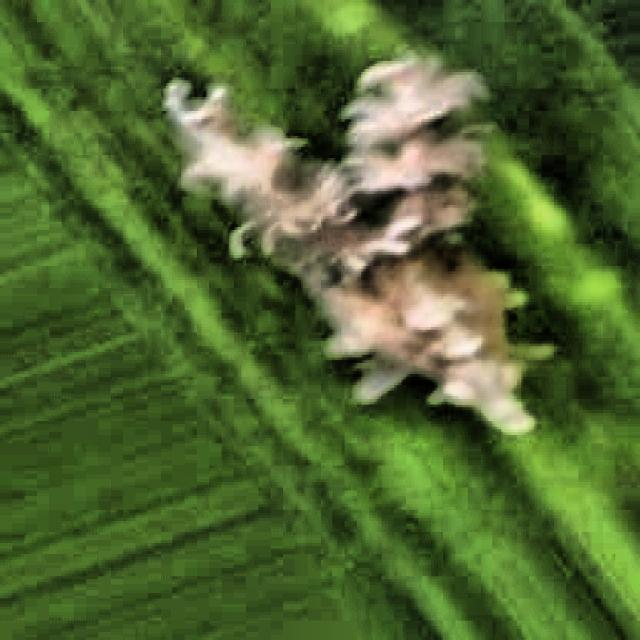Pyrilla-perpusilla: (14, 10, 582, 483)
